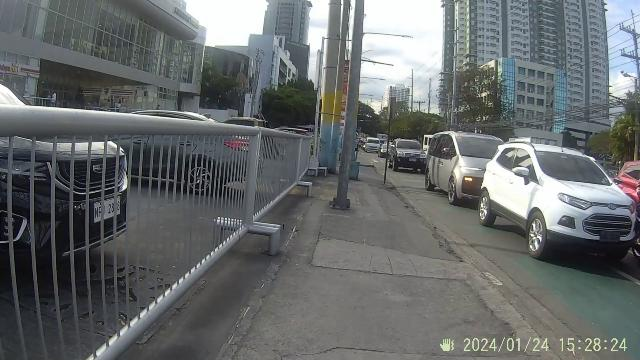car: (430, 127, 632, 257)
street_sign: (376, 94, 399, 185)
utility_post: (314, 3, 372, 209)
